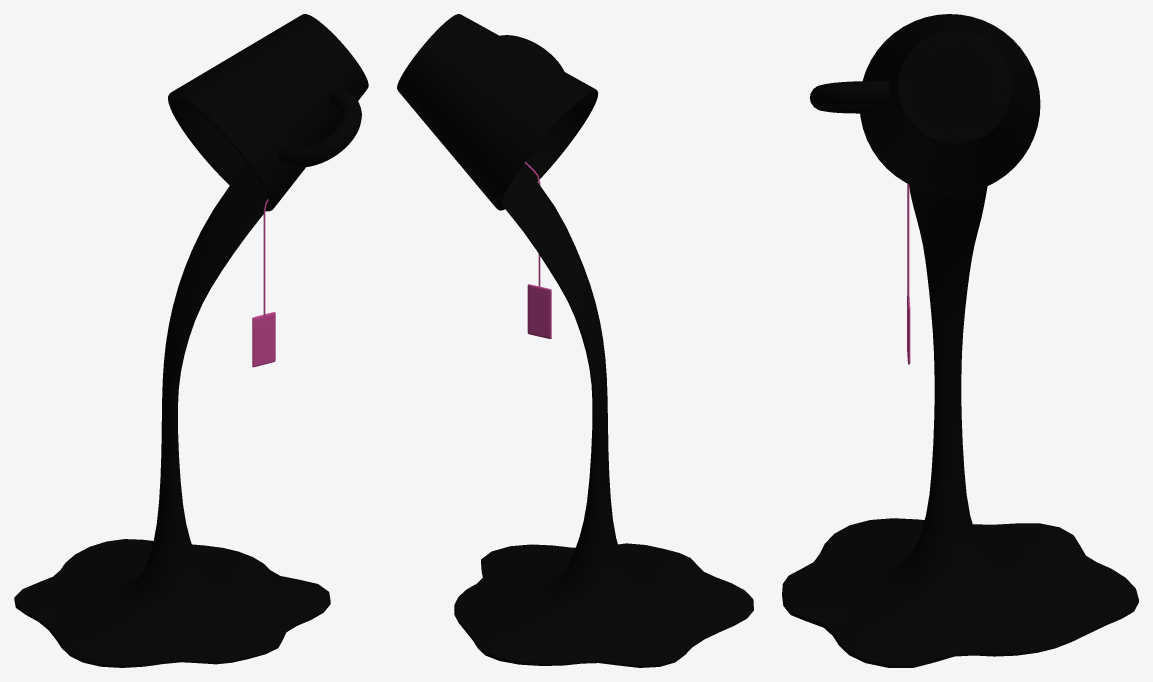
Rendered from Lamp.gltf.
3 renders of one model, left to right at view 1: azimuth 30°, elevation 25°; view 2: azimuth 150°, elevation 25°; view 3: azimuth 270°, elevation 25°, orthographic. The views are drawn at different scales.
Parts seen in each view (by area): view 1: Chocofur_Free_13_Light; view 2: Chocofur_Free_13_Light; view 3: Chocofur_Free_13_Light.
Part boxes in pixels (left/top/right/bottom): Chocofur_Free_13_Light: left=14, top=14, right=368, bottom=667; Chocofur_Free_13_Light: left=397, top=14, right=753, bottom=667; Chocofur_Free_13_Light: left=782, top=14, right=1138, bottom=667.
Bounding box in the file's own units: 0.2585 × 0.4357 × 0.2187.
